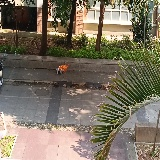fire: (58, 64, 69, 72)
